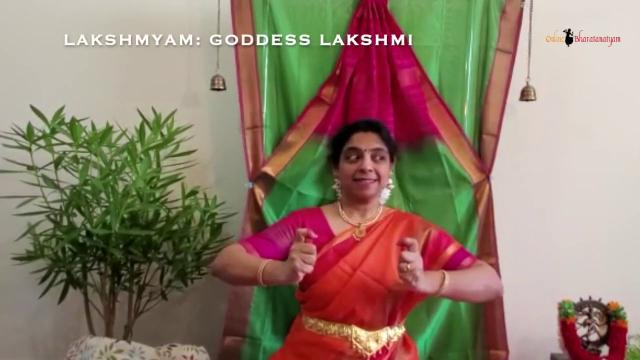kapitth: (380, 230, 436, 306), (276, 228, 332, 294)
